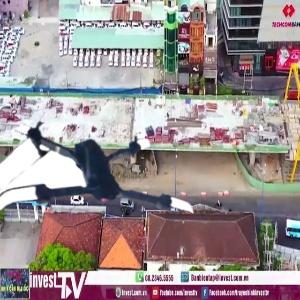drone: (4, 88, 194, 278)
